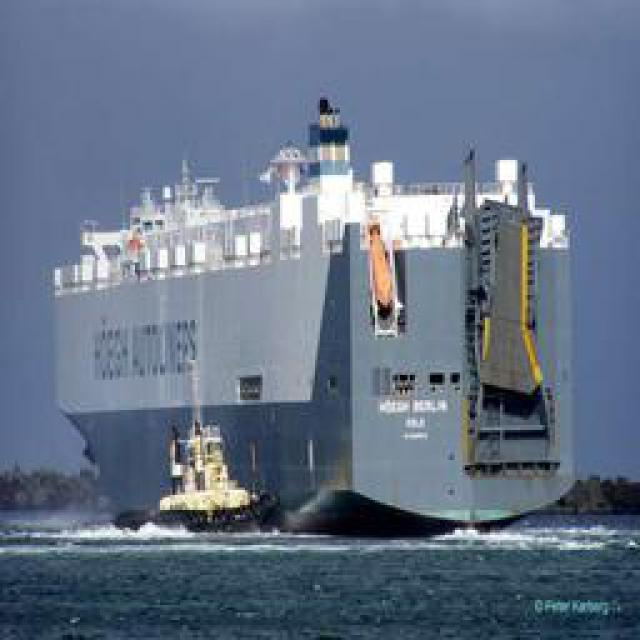Ship: (29, 90, 608, 540), (115, 370, 288, 544)
